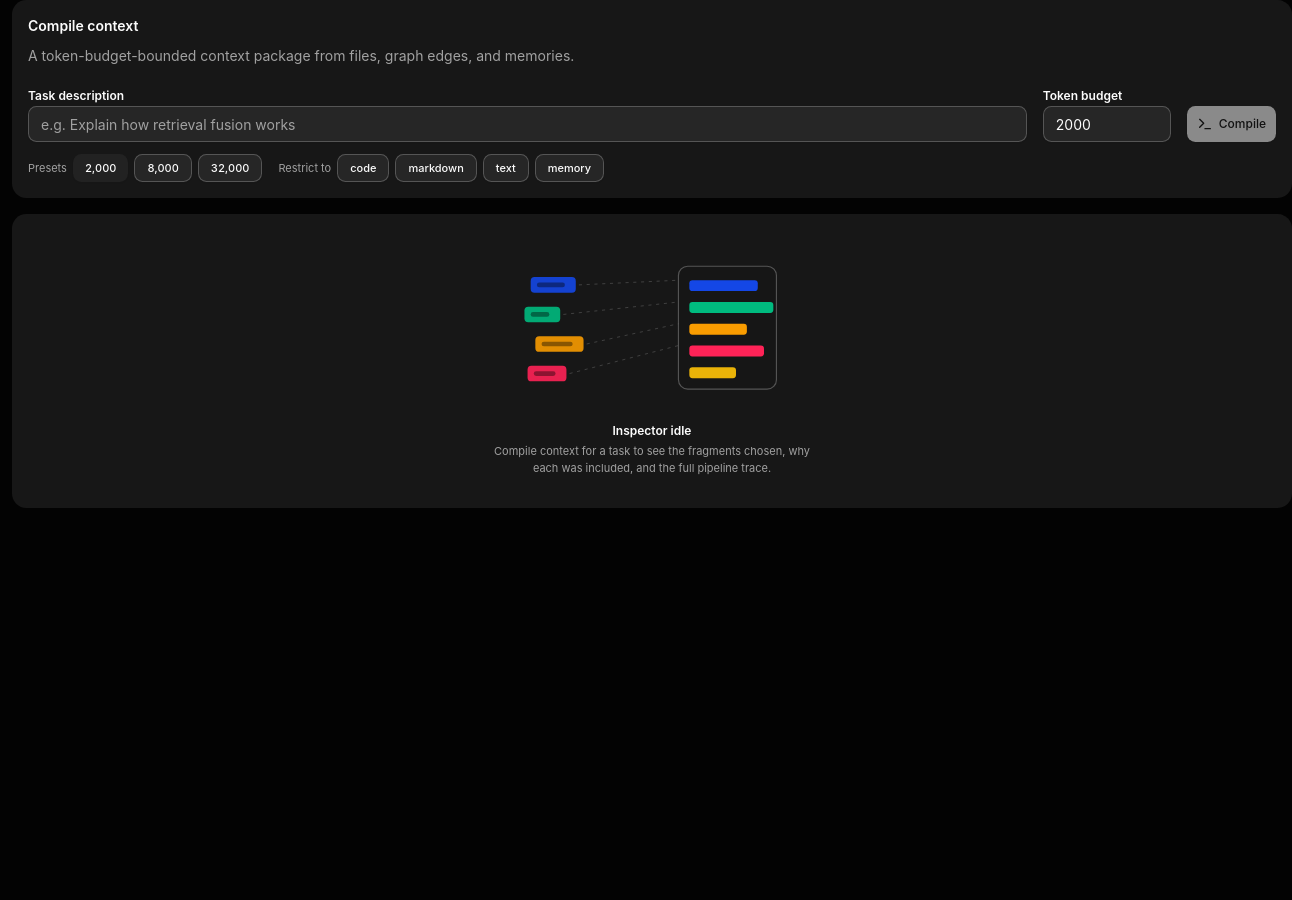
Test: InspectorView › uses the workspace summary to explain WHY nothing matched
Type "explain fusion" into the field labelled "Task description".
click(527, 124); type("explain fusion")  # box [28,106,1027,142]
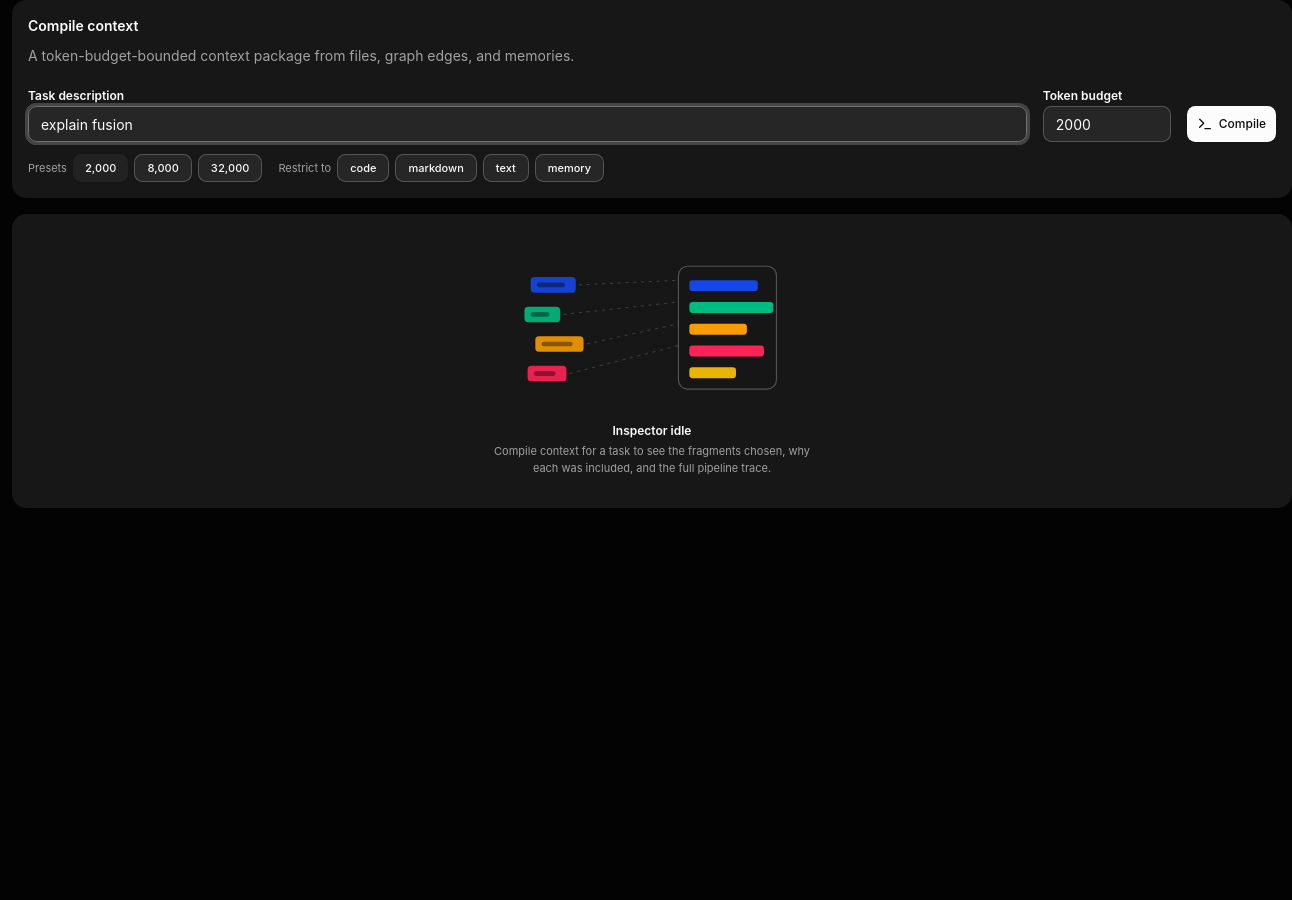
Click the button "Compile".
click(1231, 124)  # box [1187,106,1276,142]
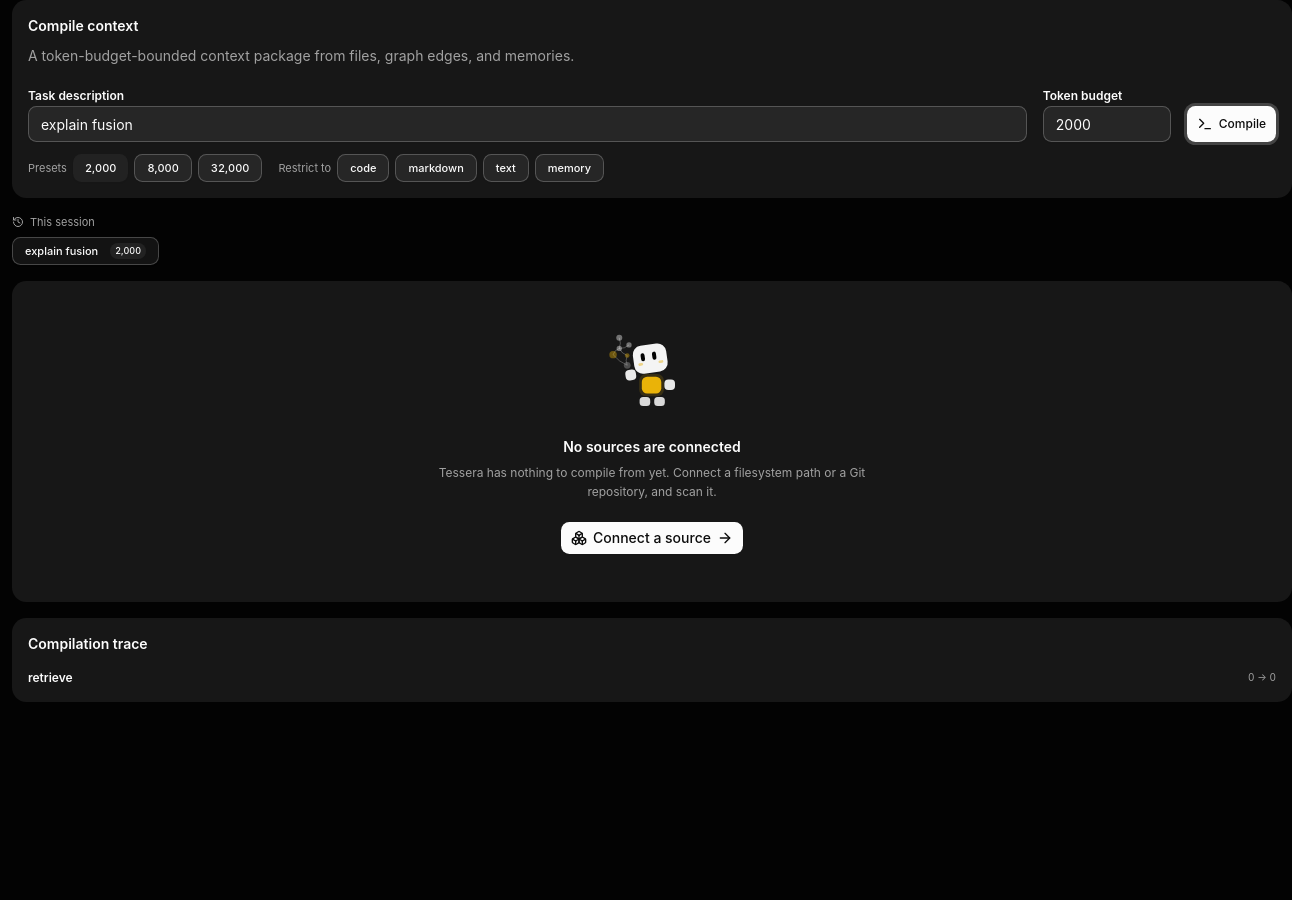
Expected: the text "No sources are connected" is shown, [563,438,741,455]
